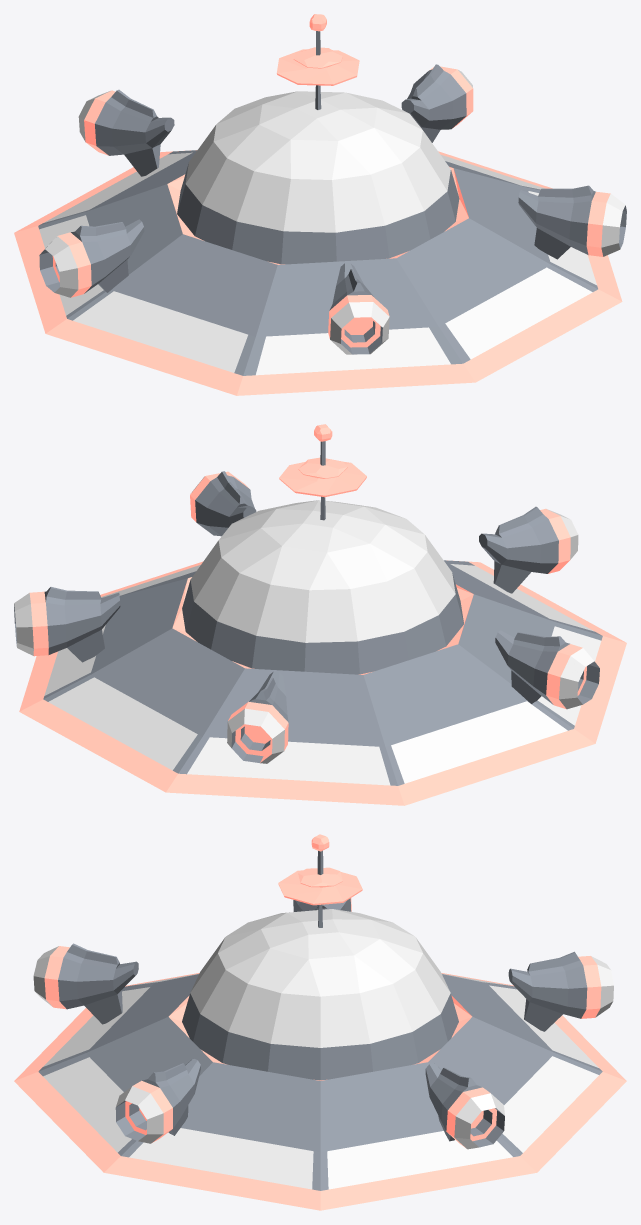
Rendered from SM_ufo_boss5.fbx.
The picture shows the model from 3 angles, top to bottom: view 1: azimuth 30°, elevation 25°; view 2: azimuth 150°, elevation 25°; view 3: azimuth 270°, elevation 25°; orthographic projection. The views are drawn at different scales.
Parts seen in each view (by area): view 1: SM_ufo_boss5; view 2: SM_ufo_boss5; view 3: SM_ufo_boss5.
Part boxes in pixels (left/top/right/bottom): SM_ufo_boss5: left=14, top=14, right=626, bottom=395; SM_ufo_boss5: left=14, top=424, right=626, bottom=805; SM_ufo_boss5: left=14, top=834, right=626, bottom=1210.
Size of the model in its own units: 2.76 by 1.5 by 2.76.
